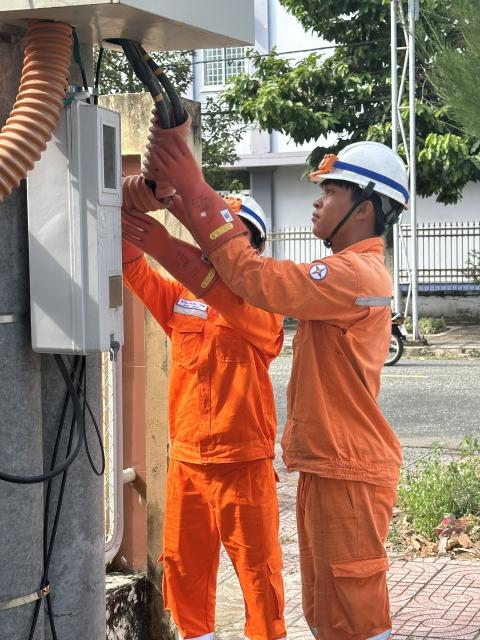gloves: (145, 131, 246, 256), (113, 198, 234, 296), (142, 176, 237, 266), (106, 192, 154, 278)
helmet: (298, 130, 430, 218), (205, 181, 274, 244)
